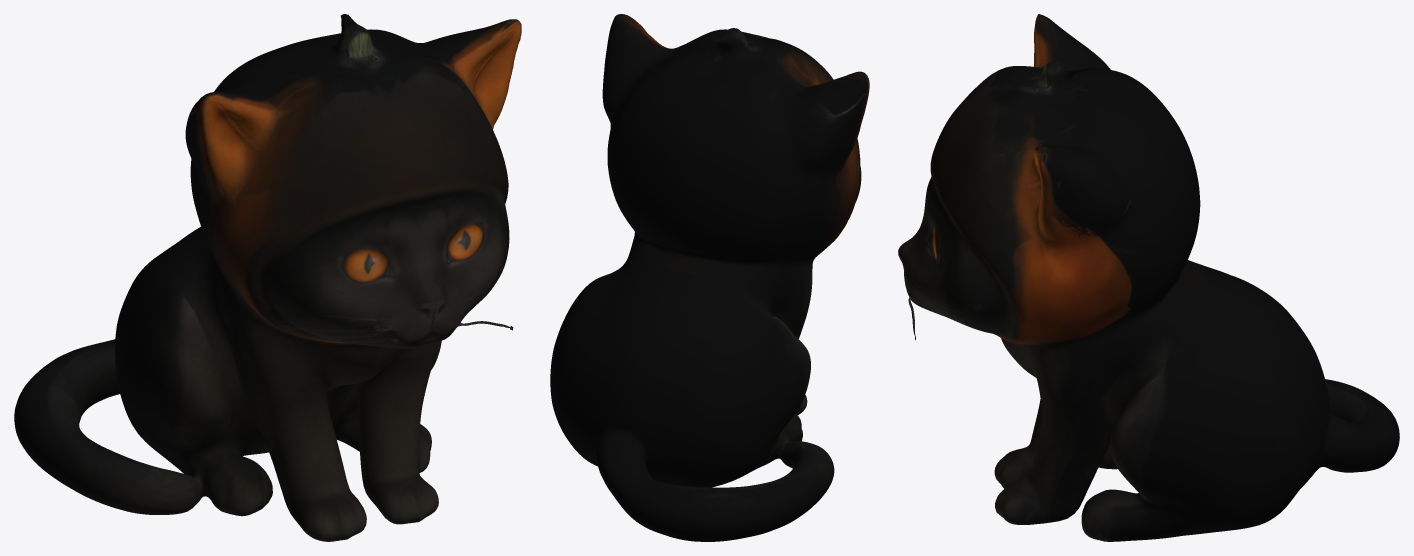
File: sitting_cute_black_cat.glb
3 renders of one model, left to right at view 1: azimuth 30°, elevation 25°; view 2: azimuth 150°, elevation 25°; view 3: azimuth 270°, elevation 25°, orthographic. The views are drawn at different scales.
Bounding box in the file's own units: 1.52 × 1.95 × 2.
1 material, 1 textured.
